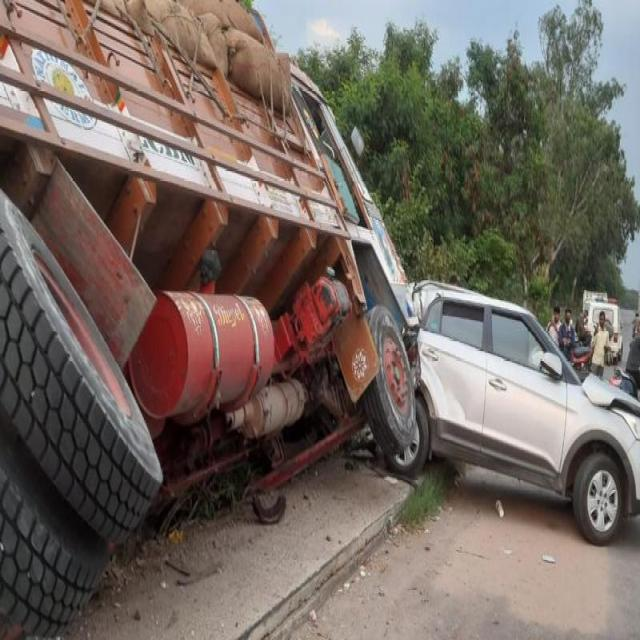accident: (0, 0, 415, 633), (392, 281, 640, 541)
